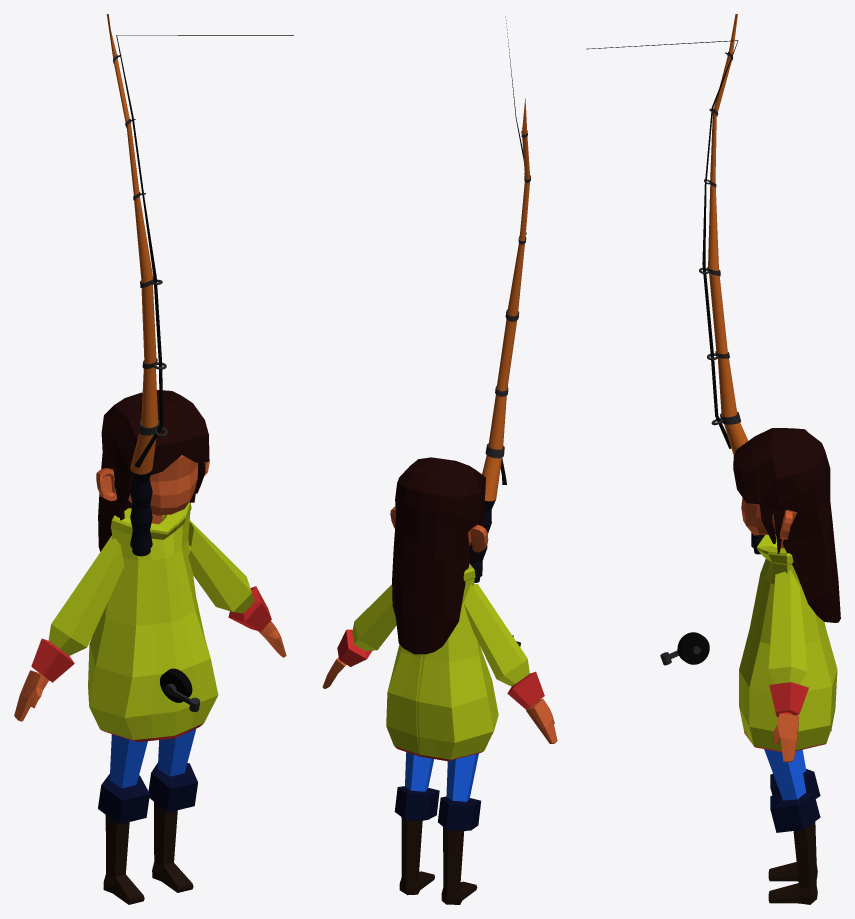
Rendered from girl.obj.
The picture shows the model from 3 angles, left to right: view 1: azimuth 30°, elevation 25°; view 2: azimuth 150°, elevation 25°; view 3: azimuth 270°, elevation 25°; orthographic projection. The views are drawn at different scales.
Parts seen in each view (by area): view 1: Cube, Cylinder.001, Cylinder, Cube.003, Cylinder.003, Cube.001, Torus.002, Cylinder.004, Cube.002; view 2: Cube.003, Cube, Cylinder, Cylinder.001, Cylinder.003, Cube.002; view 3: Cube.003, Cube, Cylinder, Cylinder.001, Cylinder.003, Torus.002, Cylinder.004, Cube.001.
Boxes of the visible parts, left/top/right/bottom form: Cube: left=88, top=502, right=218, bottom=741; Cylinder.001: left=14, top=520, right=286, bottom=721; Cylinder: left=98, top=729, right=197, bottom=904; Cube.003: left=98, top=390, right=209, bottom=551; Cylinder.003: left=106, top=14, right=159, bottom=556; Cube.001: left=111, top=455, right=198, bottom=515; Torus.002: left=116, top=35, right=293, bottom=467; Cylinder.004: left=160, top=668, right=192, bottom=702; Cube.002: left=96, top=461, right=209, bottom=500; Cube.003: left=392, top=457, right=485, bottom=654; Cube: left=386, top=563, right=498, bottom=761; Cylinder: left=394, top=752, right=481, bottom=904; Cylinder.001: left=322, top=584, right=557, bottom=743; Cylinder.003: left=469, top=98, right=530, bottom=582; Cube.002: left=390, top=506, right=488, bottom=552; Cube.003: left=733, top=428, right=840, bottom=622; Cube: left=739, top=534, right=837, bottom=751; Cylinder: left=764, top=749, right=820, bottom=904; Cylinder.001: left=768, top=570, right=808, bottom=762; Cylinder.003: left=707, top=14, right=764, bottom=554; Torus.002: left=586, top=40, right=738, bottom=448; Cylinder.004: left=677, top=632, right=709, bottom=664; Cube.001: left=741, top=497, right=797, bottom=535.
Size of the model in its own units: 2.04 by 6.77 by 1.83.
